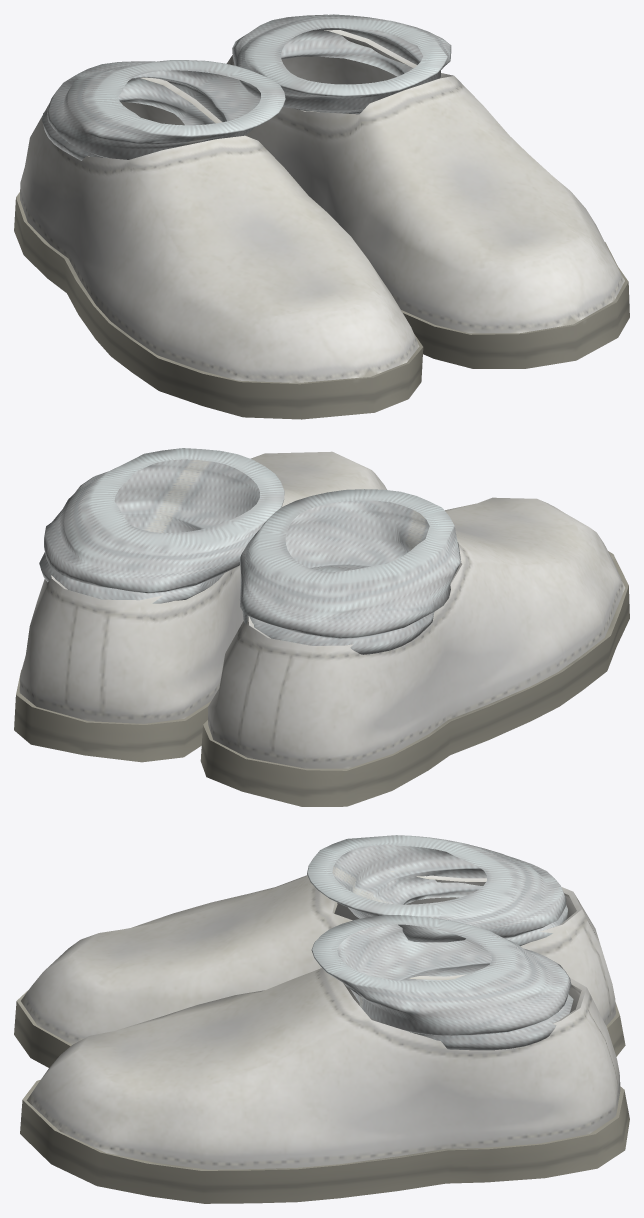
Rendered from shoes_b.fbx.
3 renders of one model, top to bottom at view 1: azimuth 30°, elevation 25°; view 2: azimuth 150°, elevation 25°; view 3: azimuth 270°, elevation 25°, orthographic. The views are drawn at different scales.
Visible parts, largest first — view 1: Object225; view 2: Object225; view 3: Object225.
Boxes of the visible parts, box(x1,y1,x2,y2) form: Object225: box(14, 14, 629, 419); Object225: box(14, 448, 629, 806); Object225: box(14, 835, 629, 1203).
Size of the model in its own units: 26.95 by 31.8 by 10.43.
